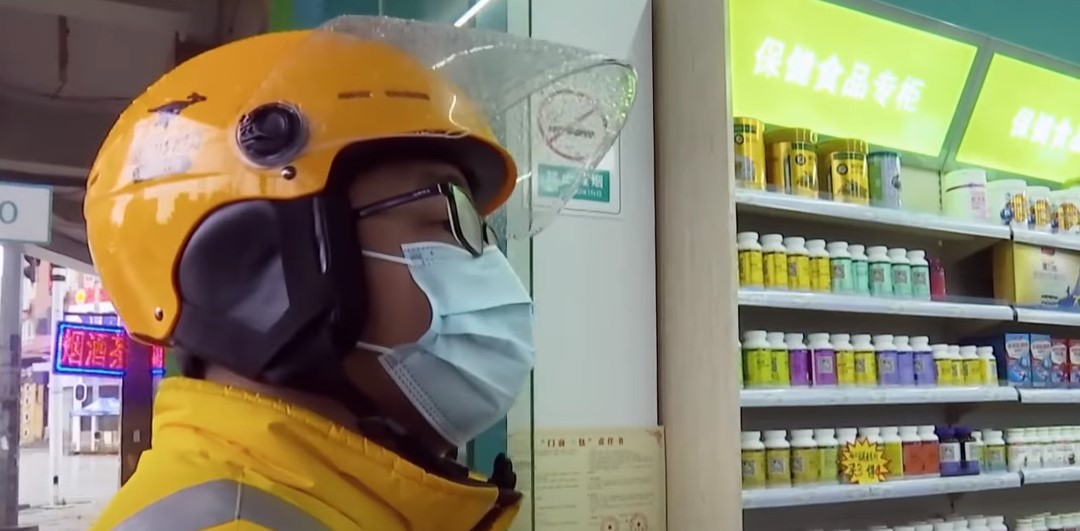face_with_mask: (87, 34, 538, 447)
